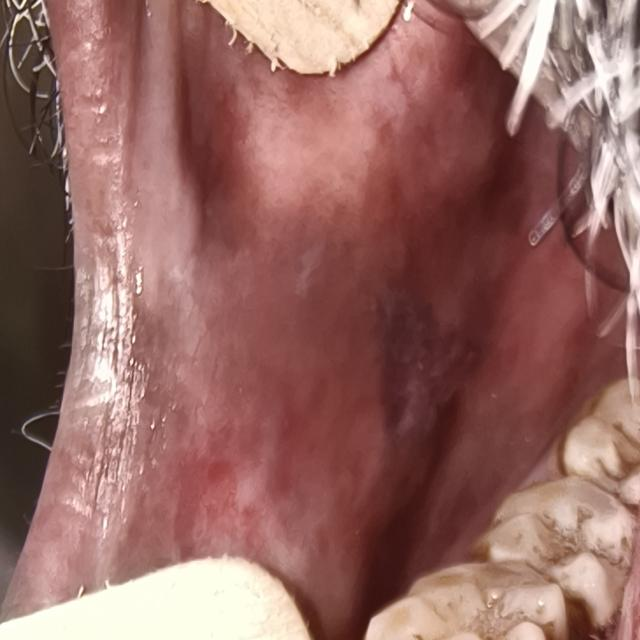processing_area: (23, 4, 622, 631)
